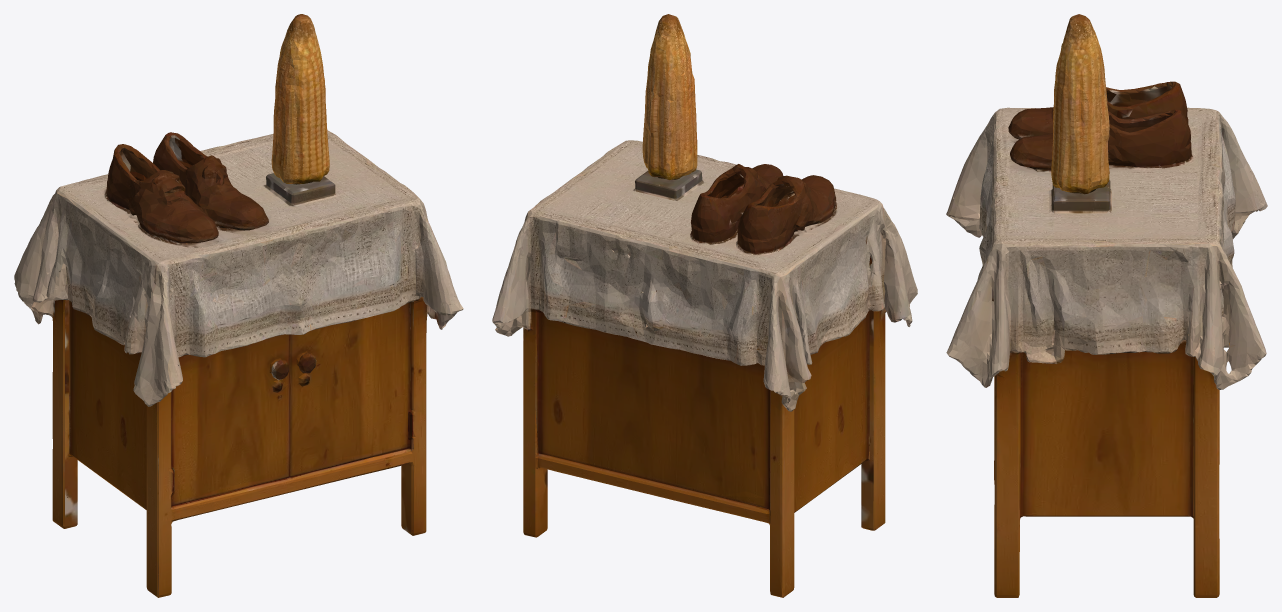
The model's file is chest (297).glb.
The picture shows the model from 3 angles, left to right: view 1: azimuth 30°, elevation 25°; view 2: azimuth 150°, elevation 25°; view 3: azimuth 270°, elevation 25°; orthographic projection. The views are drawn at different scales.
Visible parts, largest first — view 1: Hy21_Mesh.obj; view 2: Hy21_Mesh.obj; view 3: Hy21_Mesh.obj.
Part boxes in pixels (x1,y1,x2,y2): Hy21_Mesh.obj: (14, 14, 463, 597); Hy21_Mesh.obj: (492, 14, 917, 597); Hy21_Mesh.obj: (946, 14, 1267, 597).
Size of the model in its own units: 1.29 by 1.95 by 1.06.
Materials: 1 (1 with a texture image).
